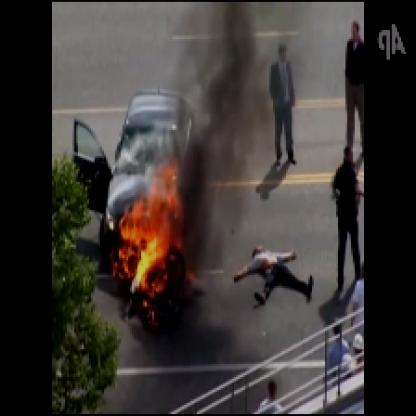Fire: (117, 150, 197, 316)
Smoke: (186, 2, 275, 275)
